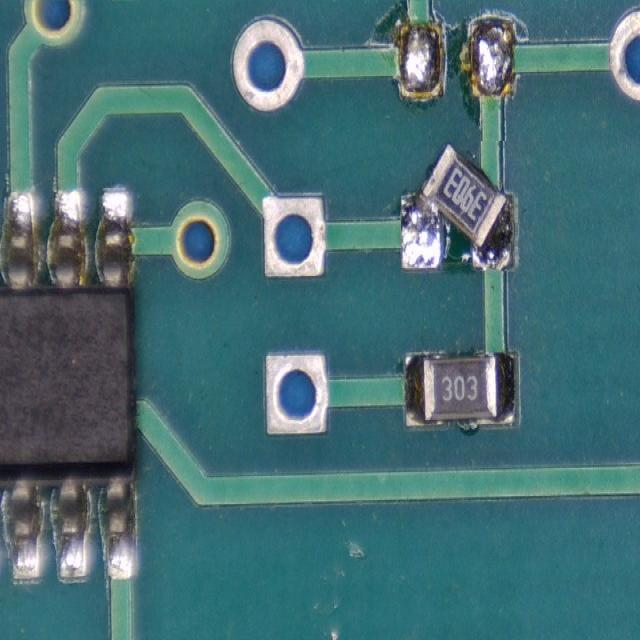Incorrect_installation: (401, 141, 516, 271)
